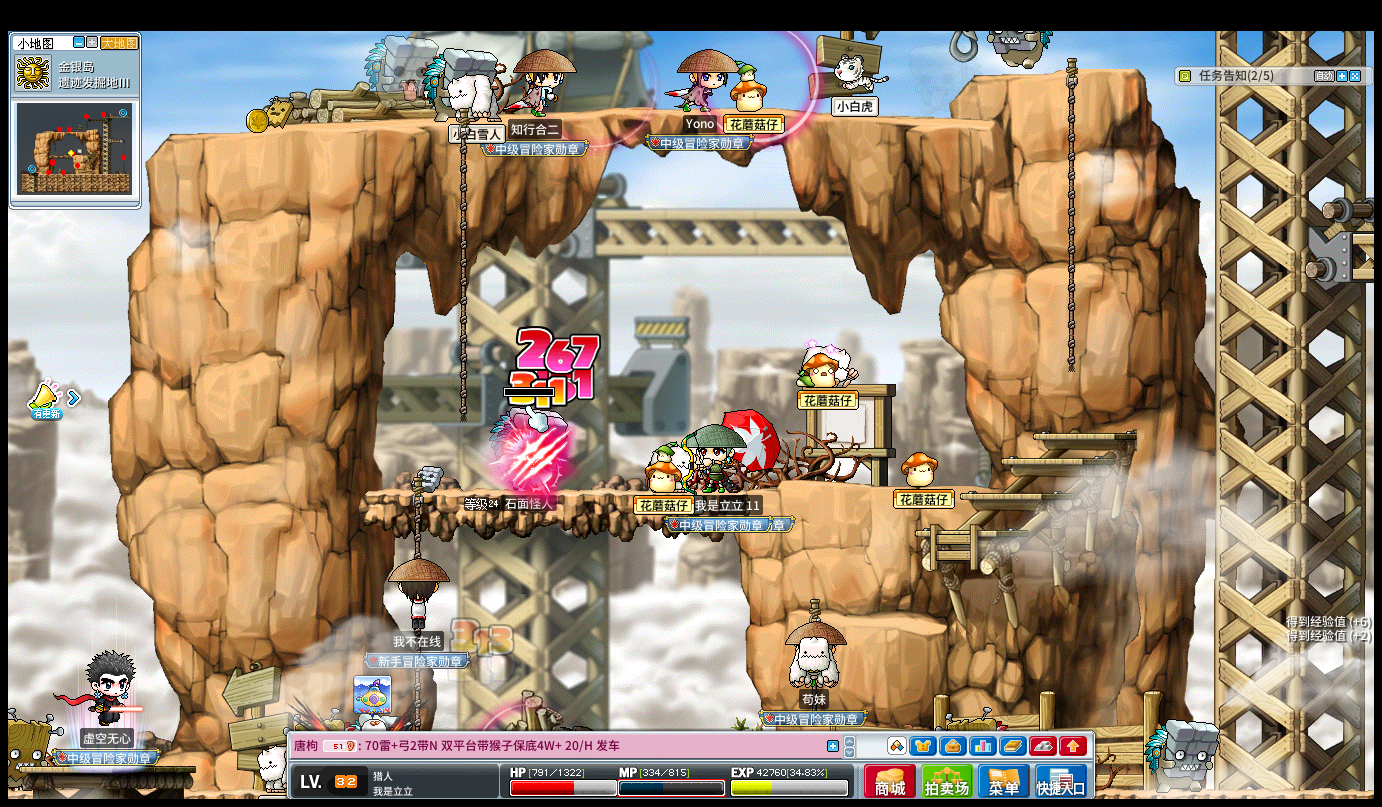floor: (170, 105, 1000, 138), (363, 488, 738, 499), (840, 612, 948, 634), (967, 63, 1146, 76), (967, 66, 1146, 78), (848, 482, 999, 491), (1031, 429, 1138, 441), (961, 489, 1067, 499), (914, 528, 1027, 537), (996, 456, 1112, 464), (959, 492, 1072, 500)
monster: (492, 404, 572, 490), (1143, 719, 1219, 792), (362, 33, 421, 113), (3, 713, 54, 774)
rope: (1064, 54, 1079, 374), (456, 106, 468, 420), (409, 479, 423, 558)
